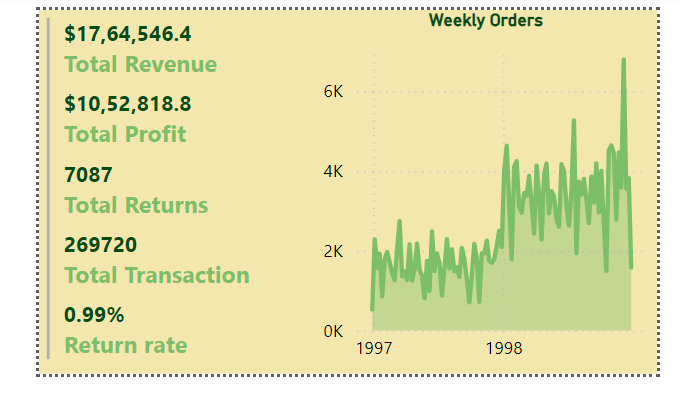

What the dashboard file says about the page in this screenshot:
{"tool":"powerbi","page":{"name":"Custom Tooltip","canvas":[425,250],"ordinal":5},"visuals":[{"type":"areaChart","title":"Weekly Orders","fields":{"Y":["Measure Table.Total Transaction"],"Category":["Calendar Lookup.Start of Week"]},"box":[190,0,235,250],"z":0},{"type":"multiRowCard","fields":{"Values":["Measure Table.Total Revenue","Measure Table.Total Profit","Measure Table.Total Returns","Measure Table.Total Transaction","Measure Table.Return rate"]},"box":[0,0,190,250],"z":1000}]}

Visuals, with their boxes in screenshot pixels (x1, y1, x2, y2), scaled from the page's 425x250 canvas onto the 680x393 screenshot:
"Weekly Orders" areaChart: rect(304, 0, 679, 392)
multiRowCard - Measure Table.Total Revenue x Measure Table.Total Profit: rect(0, 0, 304, 392)
